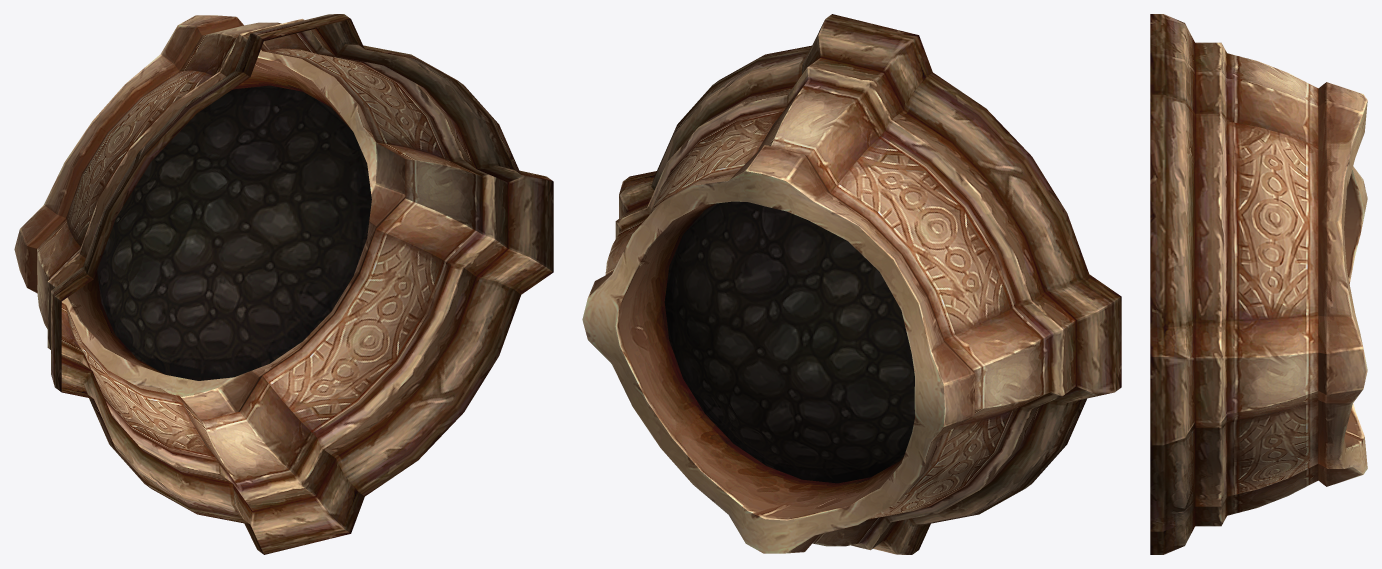
The model's file is mesh_Brazier_03.FBX.
The picture shows the model from 3 angles, left to right: view 1: azimuth 30°, elevation 25°; view 2: azimuth 150°, elevation 25°; view 3: azimuth 270°, elevation 25°; orthographic projection. The views are drawn at different scales.
Parts seen in each view (by area): view 1: mesh_Brazier_03; view 2: mesh_Brazier_03; view 3: mesh_Brazier_03.
Part boxes in pixels (bbox=[...]): mesh_Brazier_03: bbox=[14, 14, 553, 554]; mesh_Brazier_03: bbox=[582, 14, 1121, 554]; mesh_Brazier_03: bbox=[1150, 14, 1367, 554].
Bounding box in the file's own units: 121 × 121 × 47.7.
